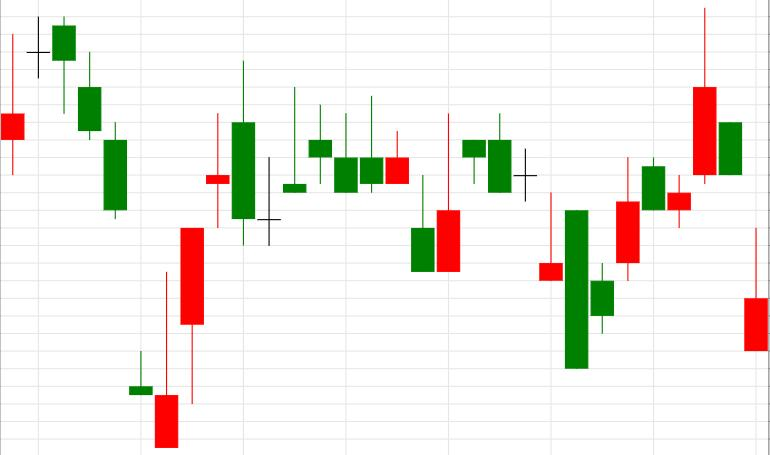inverse_hammer_rise: (27, 16, 178, 449)
